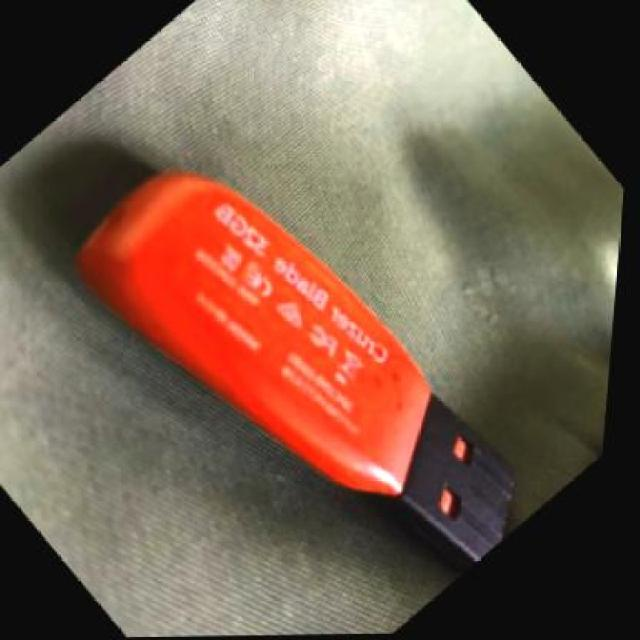Flashdisk: (0, 55, 614, 639)
